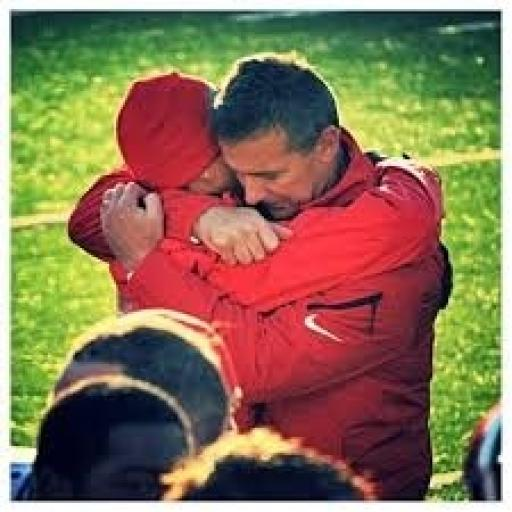hugging: (27, 50, 455, 501)
